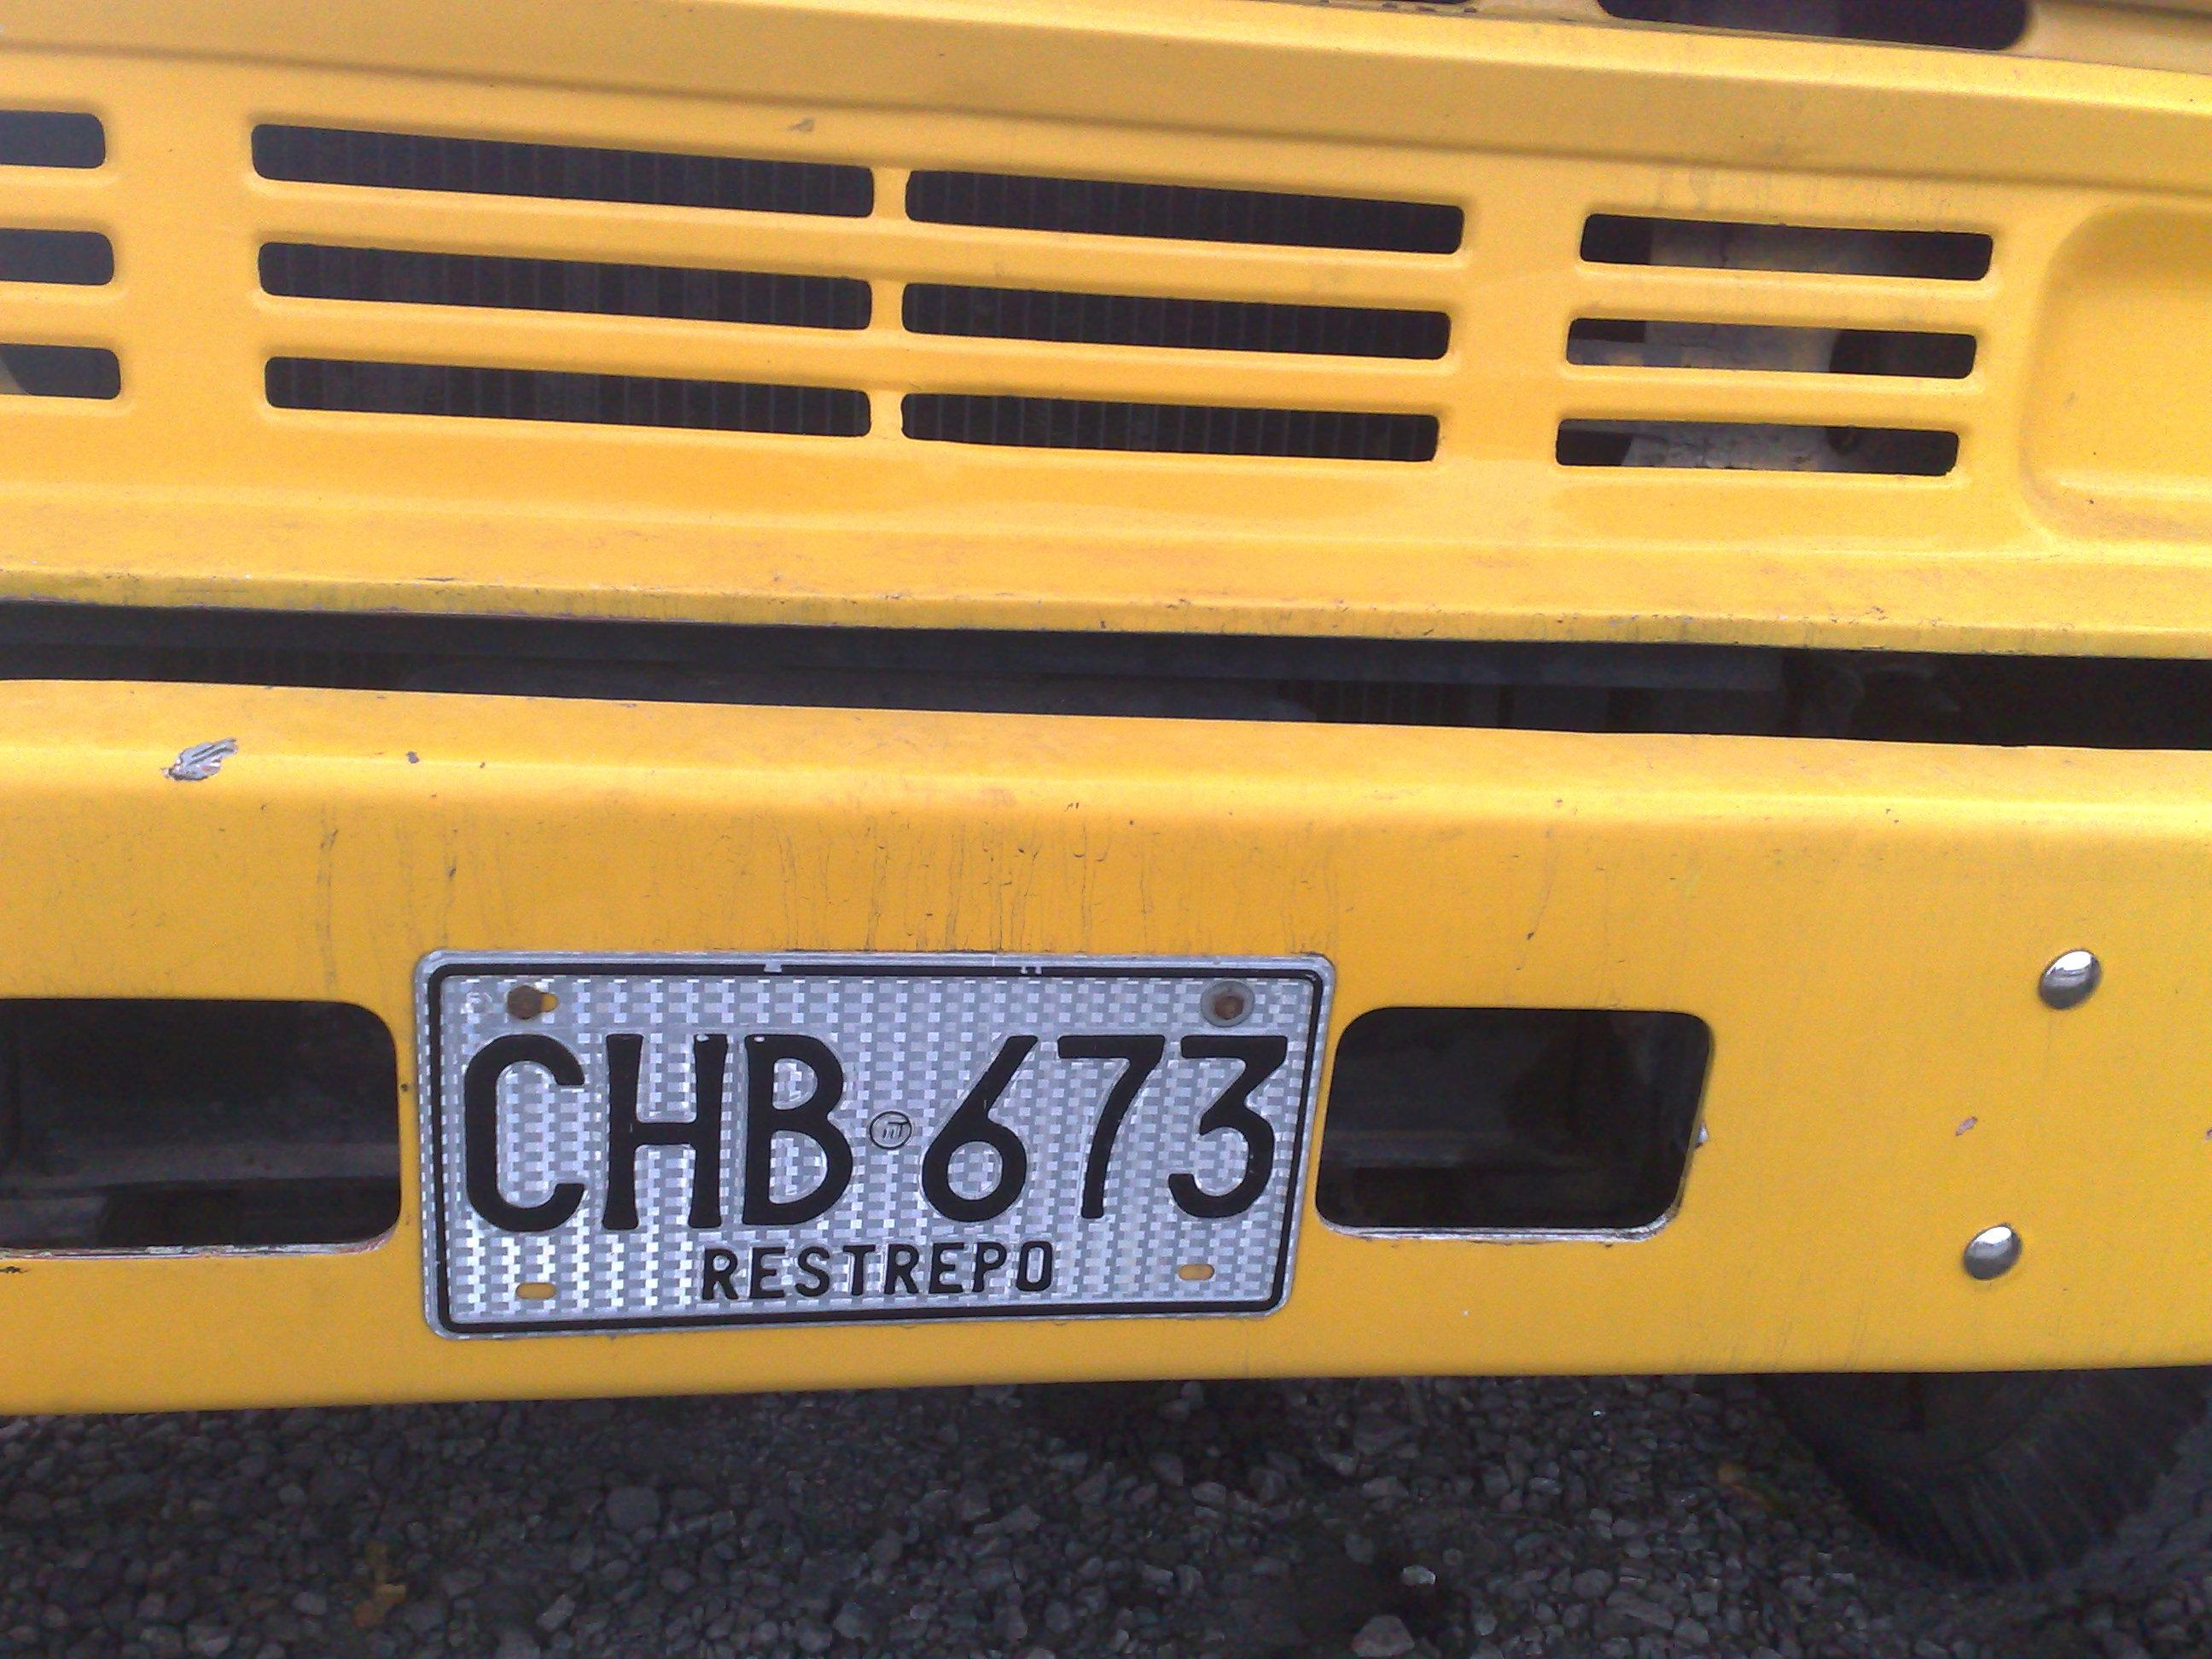placas: (407, 928, 1336, 1342)
